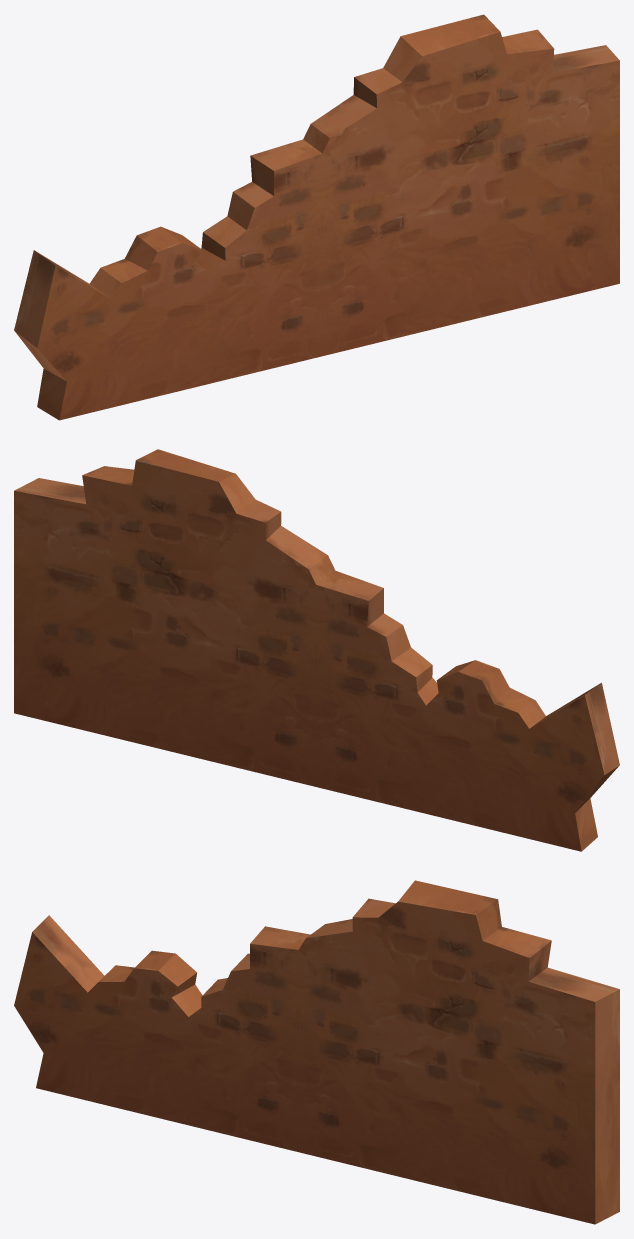
The model's file is oBldWalDirt01A.FBX.
3 renders of one model, top to bottom at view 1: azimuth 30°, elevation 25°; view 2: azimuth 150°, elevation 25°; view 3: azimuth 330°, elevation 25°, orthographic.
Visible parts, largest first — view 1: oBldWalDirt01A; view 2: oBldWalDirt01A; view 3: oBldWalDirt01A.
Part boxes in pixels (x1,y1,x2,y2): oBldWalDirt01A: (14,14,619,420); oBldWalDirt01A: (14,449,619,851); oBldWalDirt01A: (14,880,619,1224).
Size of the model in its own units: 38.76 by 17.73 by 2.2.
Materials: 1 (1 with a texture image).
